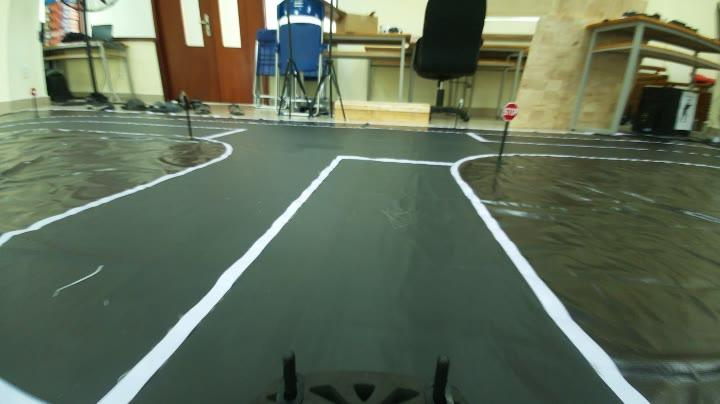stop: (496, 99, 523, 126)
